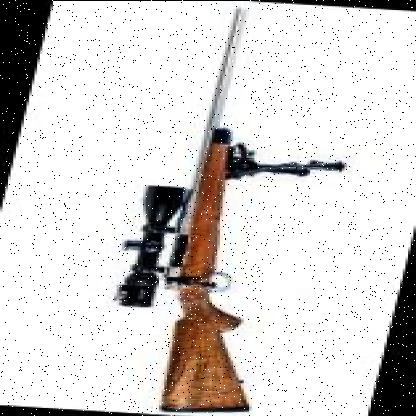rifle: (116, 5, 394, 416)
